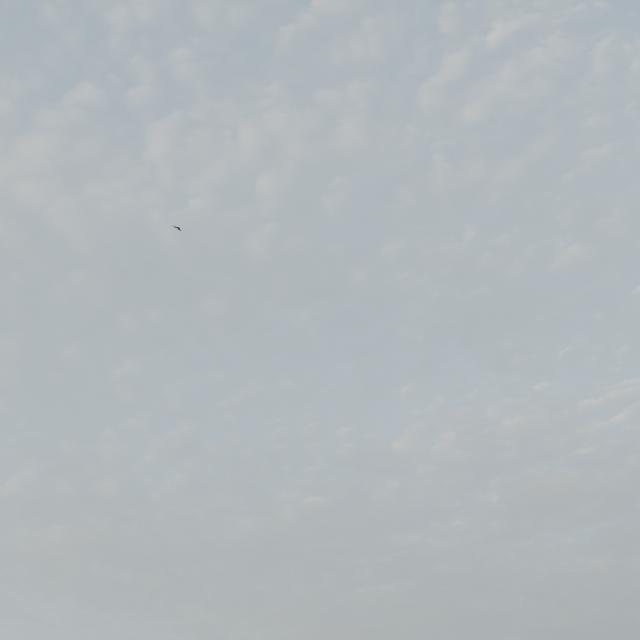Airaplan: (172, 225, 182, 231)
